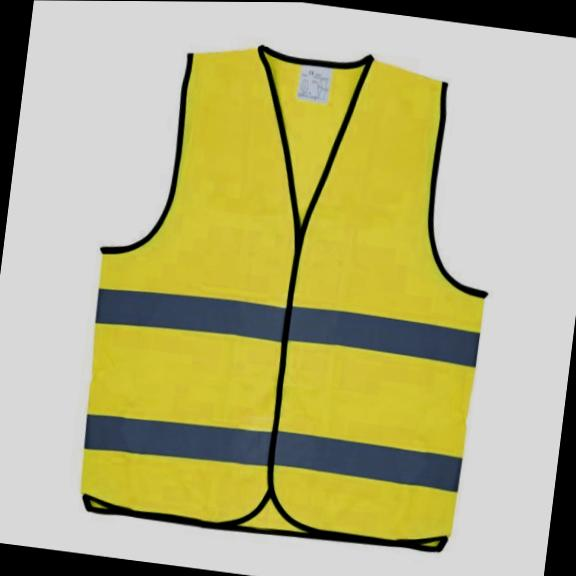safety_vest: (62, 17, 518, 563)
